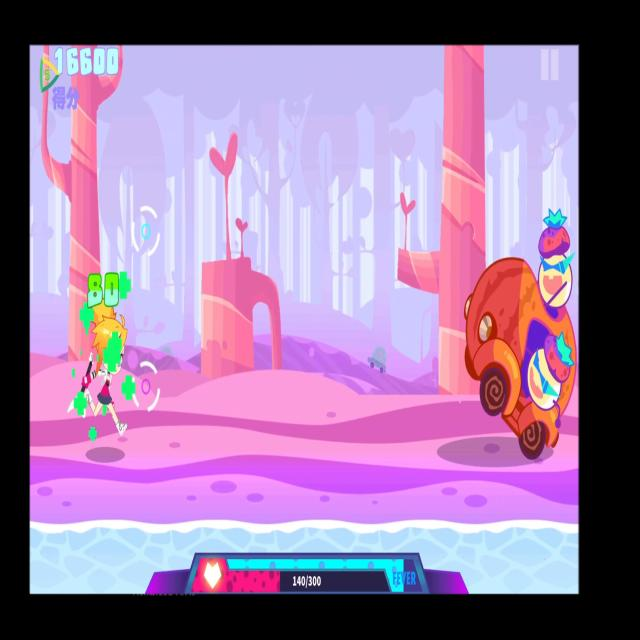Boss-Pumpkin: (460, 204, 578, 465)
